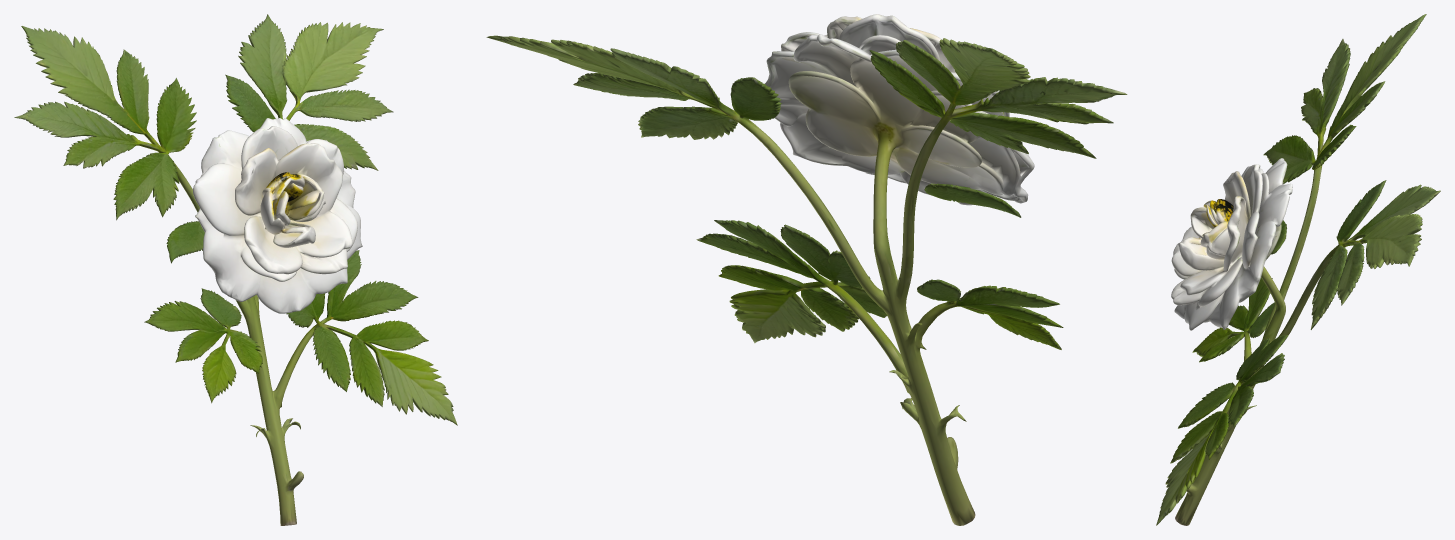
Rendered from tumi.glb.
The picture shows the model from 3 angles, left to right: view 1: azimuth 30°, elevation 25°; view 2: azimuth 150°, elevation 25°; view 3: azimuth 270°, elevation 25°; orthographic projection. The views are drawn at different scales.
Visible parts, largest first — view 1: node_0; view 2: node_0; view 3: node_0.
Boxes of the visible parts, x1,y1,x2,y2 form: node_0: (14,14,457,525); node_0: (486,14,1127,525); node_0: (1156,14,1440,525).
Size of the model in its own units: 0.8484 by 0.898 by 0.526.
Materials: 1 (1 with a texture image).
